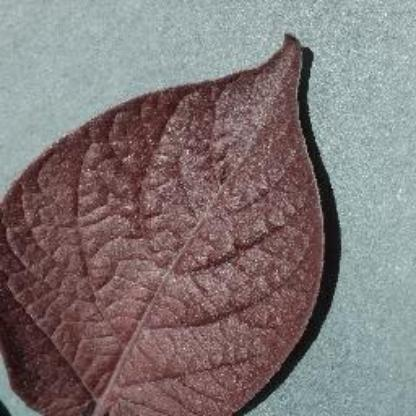Healthy-plant: (2, 32, 328, 416)
